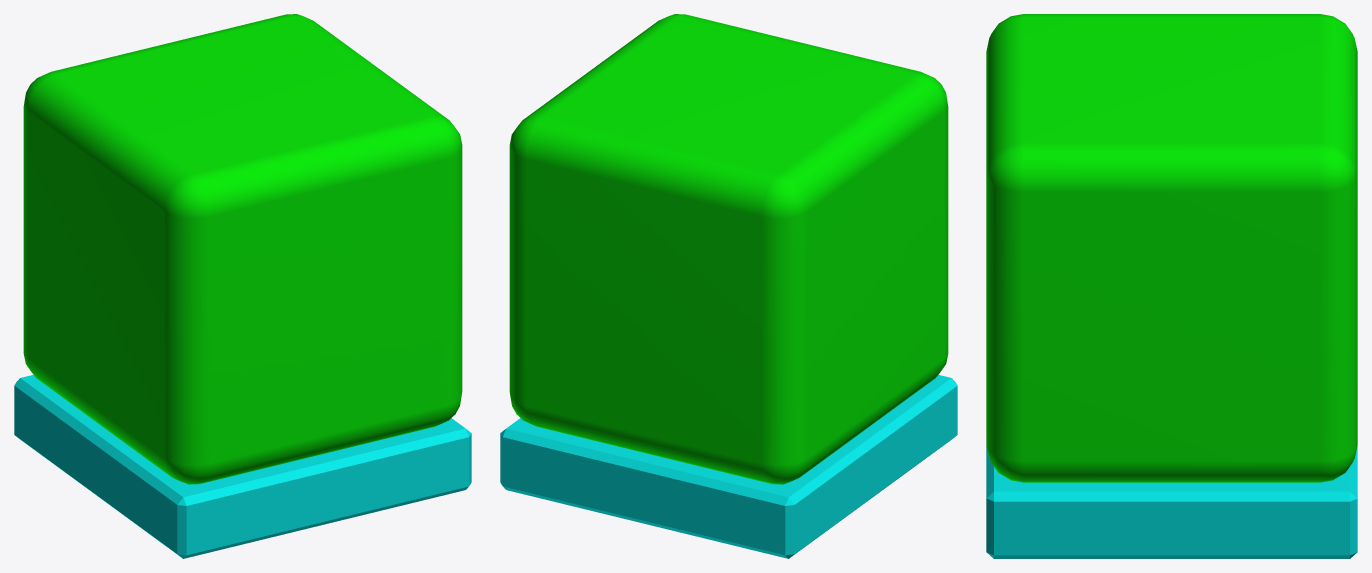
Rendered from floarbox.fbx.
3 views of the same model, side by side, from view 1: azimuth 30°, elevation 25°; view 2: azimuth 150°, elevation 25°; view 3: azimuth 270°, elevation 25° (orthographic). The views are drawn at different scales.
Parts seen in each view (by area): view 1: pCube2, pCube1; view 2: pCube2, pCube1; view 3: pCube2, pCube1.
Part boxes in pixels (left/top/right/bottom): pCube2: left=23, top=14, right=462, bottom=484; pCube1: left=14, top=375, right=471, bottom=558; pCube2: left=509, top=14, right=948, bottom=484; pCube1: left=500, top=375, right=957, bottom=558; pCube2: left=986, top=14, right=1357, bottom=482; pCube1: left=986, top=446, right=1357, bottom=558.
Size of the model in its own units: 1 by 1.2 by 1.
